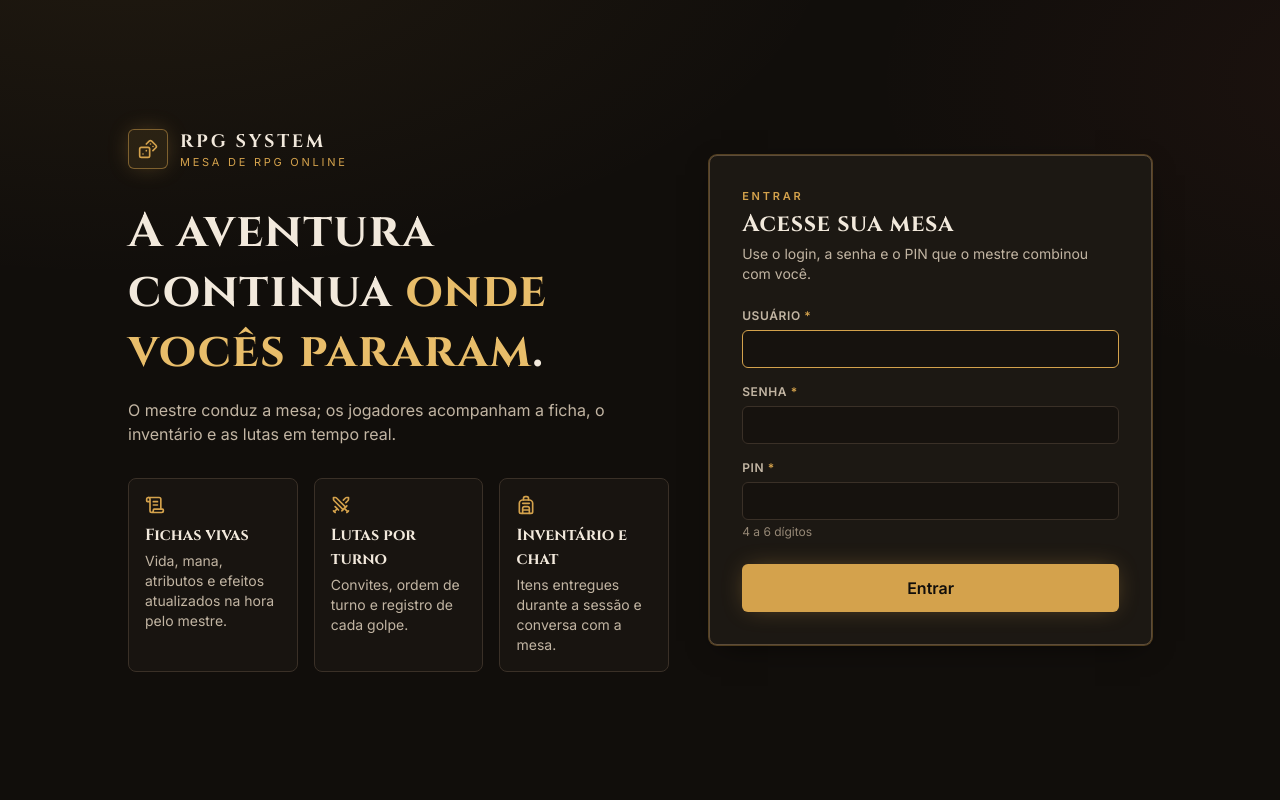
Test: LoginPage › mostra mensagem clara quando as credenciais estão erradas
Type "ana" into the field labelled "Usuário *".
click(931, 349); type("ana")  # box 742,330 -> 1119,368
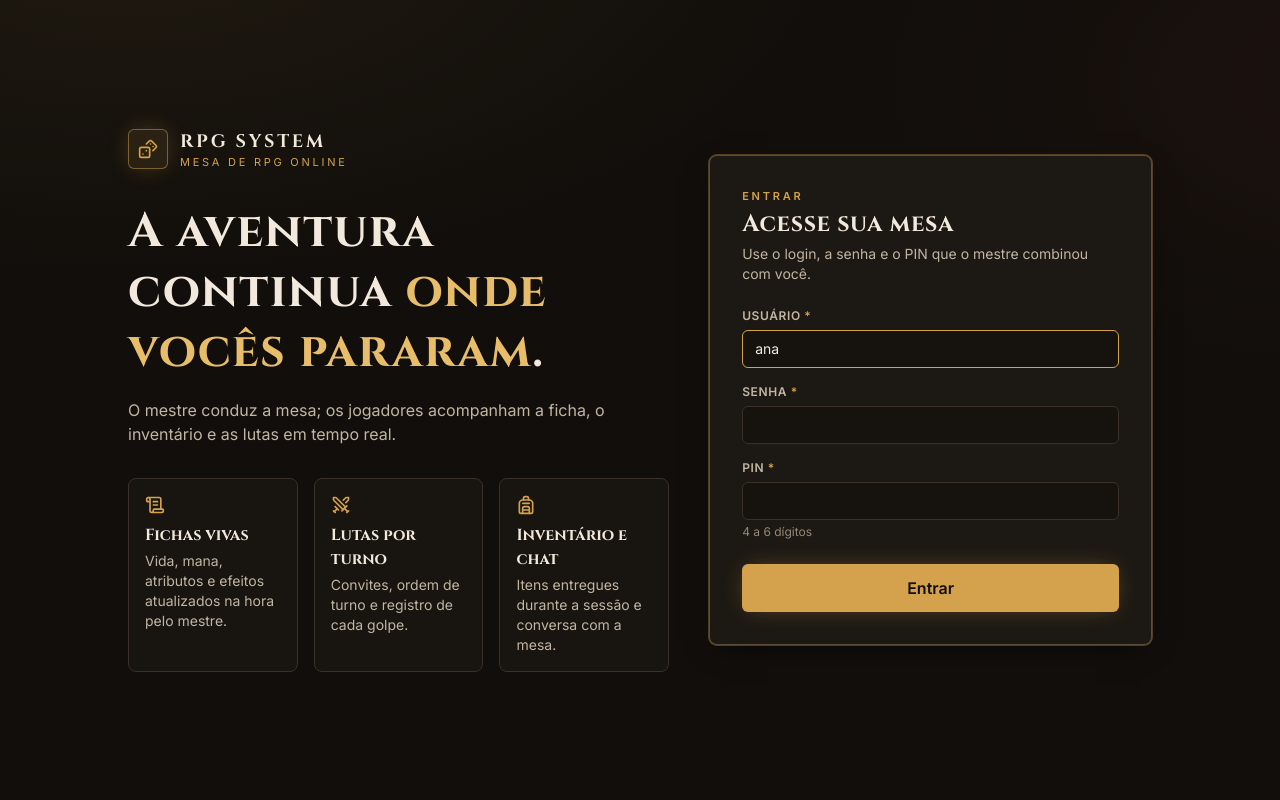
Type "errada1" into the password field labelled "Senha *".
click(931, 425); type("errada1")  # box 742,406 -> 1119,444
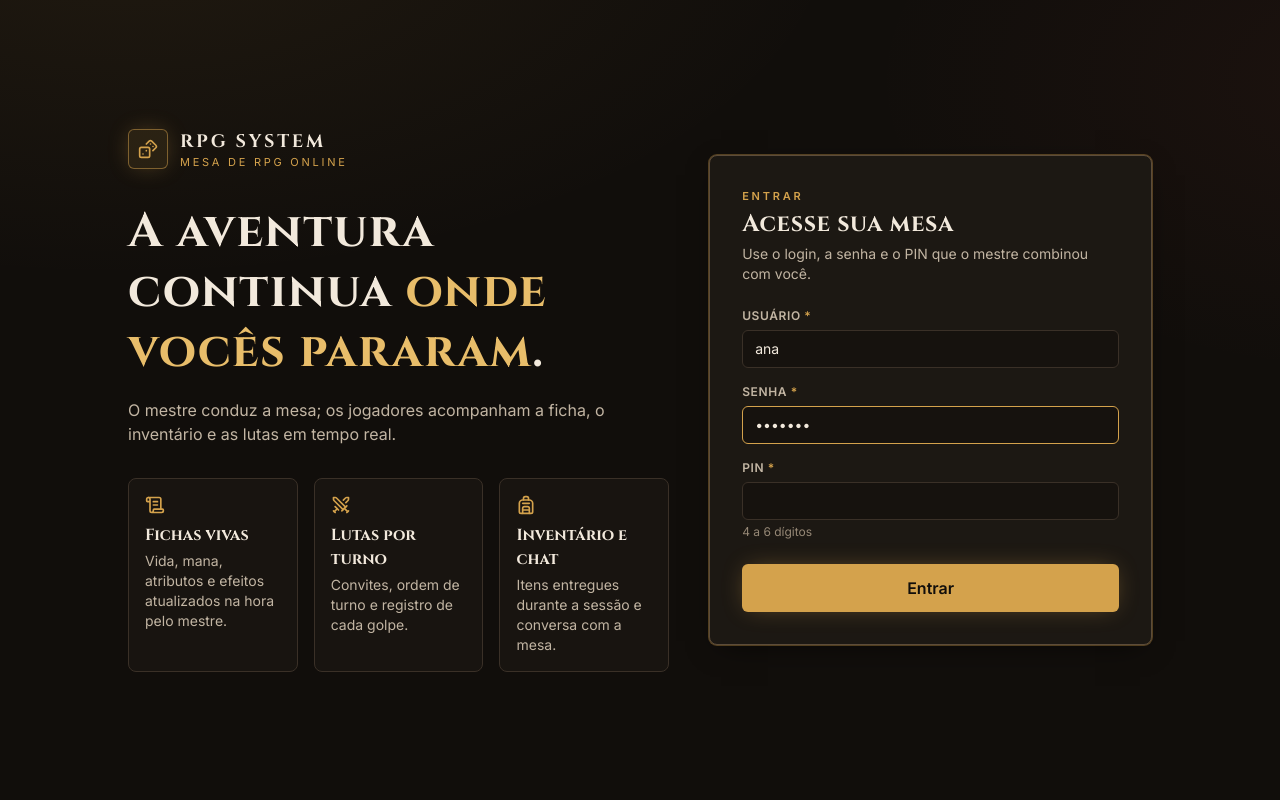
Type "1234" into the password field labelled "PIN *".
click(931, 501); type("1234")  # box 742,482 -> 1119,520
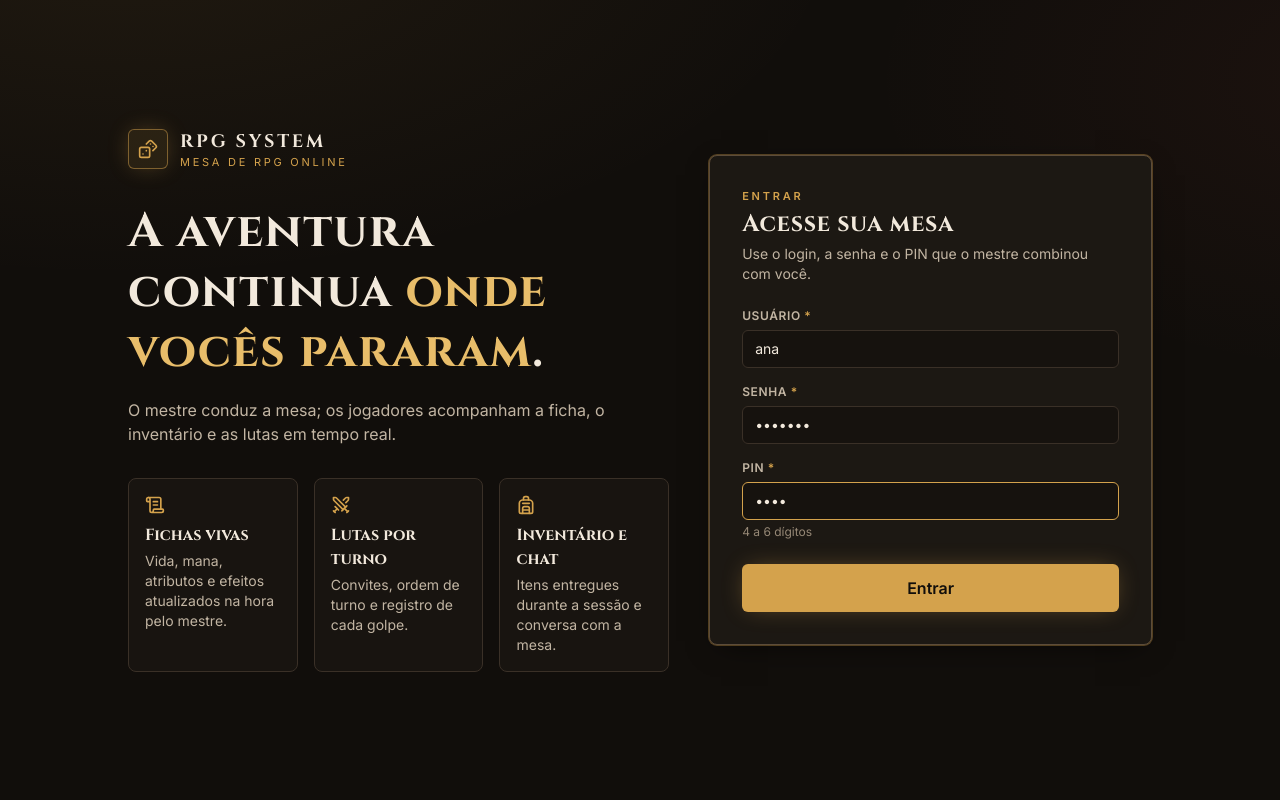
Click the button "Entrar".
click(931, 588)  # box 742,564 -> 1119,612
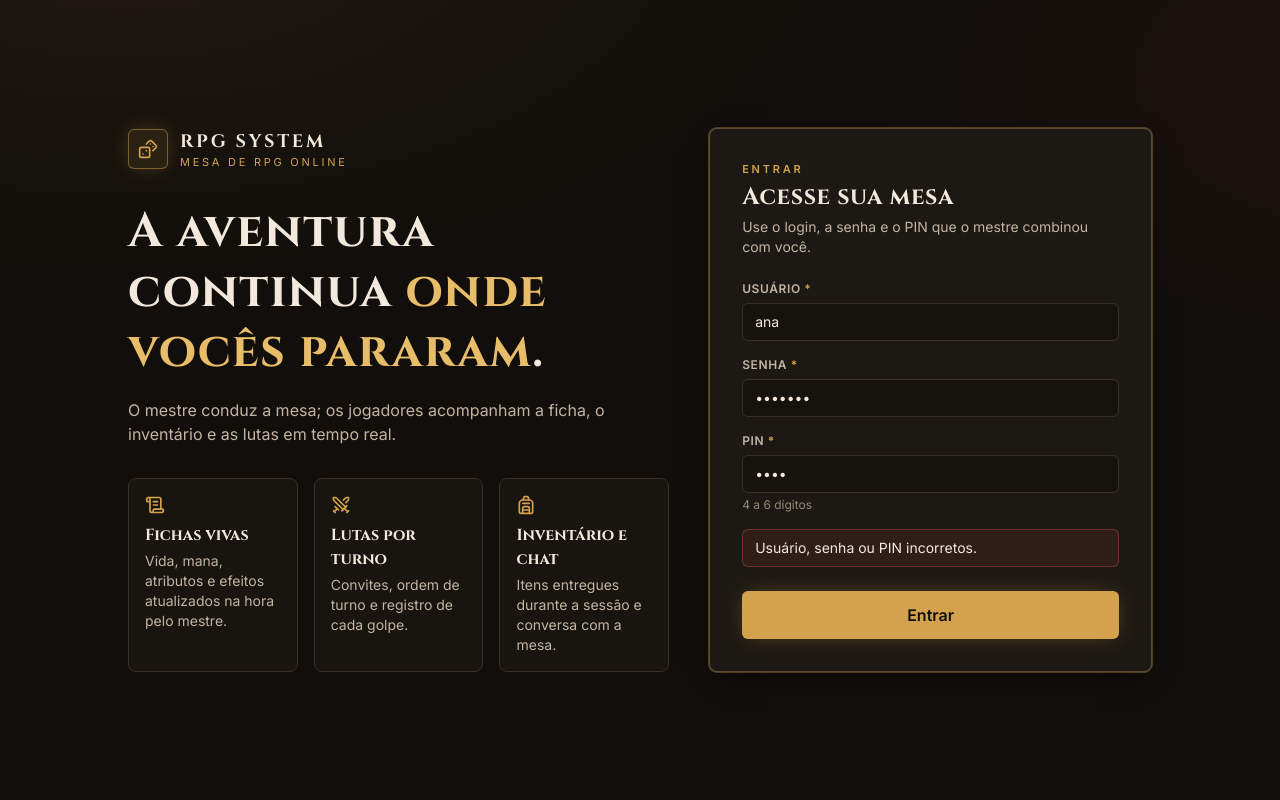
Now the message reads "Usuário, senha ou PIN incorretos.", box 755,539 -> 977,556
